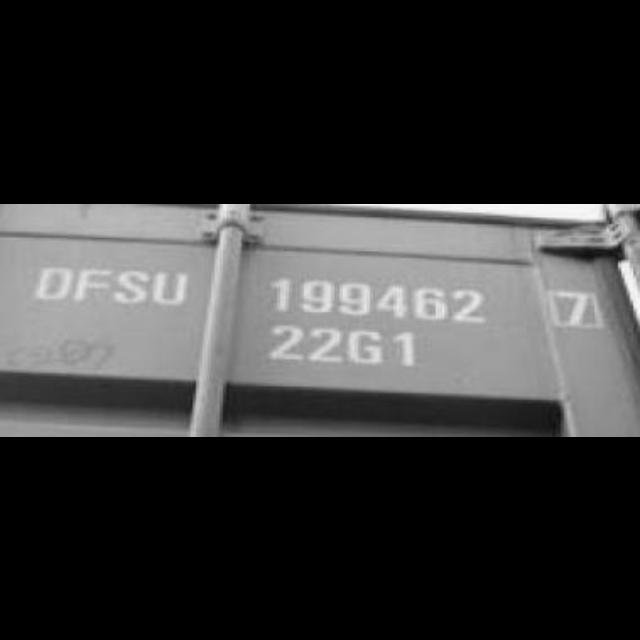1: (394, 326, 418, 370), (268, 272, 290, 314)
2: (267, 320, 307, 360), (451, 286, 489, 324), (309, 324, 345, 364)
4: (379, 280, 408, 320)
6: (414, 280, 448, 326)
7: (554, 289, 594, 327)
9: (300, 274, 334, 318), (339, 279, 375, 317)
d: (34, 260, 74, 304)
f: (75, 262, 113, 306)
g: (348, 327, 384, 367)
s: (113, 265, 149, 307)
u: (153, 268, 187, 314)
